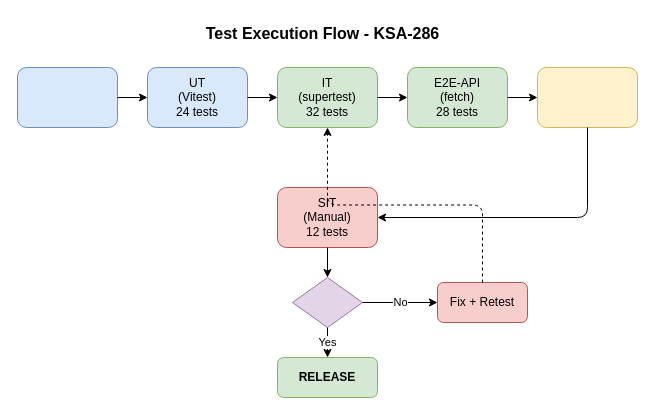
Image size: 655x415. Some labels were removed from this diagram. Each missing label, with the centre of its shape:
All Pass?: point (327, 302)
E2E-UI (Playwright) 22 tests: point (587, 97)
PBT (fast-check) 8 tests: point (67, 97)
